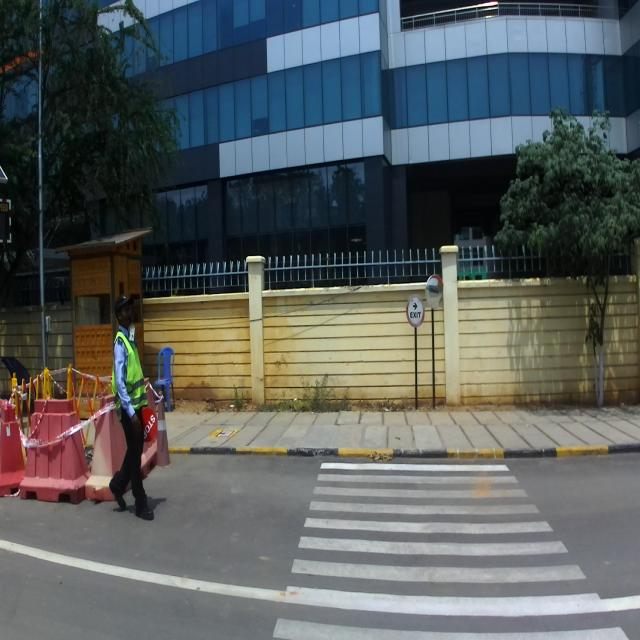person ahead at: (108, 289, 155, 524)
sign board ahead at: (406, 285, 427, 335)
zebra crossing ahead at: (268, 447, 639, 640)
